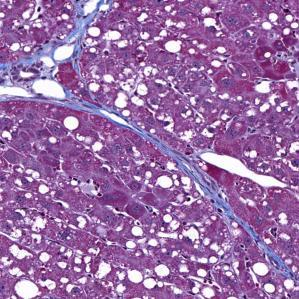fibrosis: (3, 40, 92, 110), (169, 146, 235, 218)
